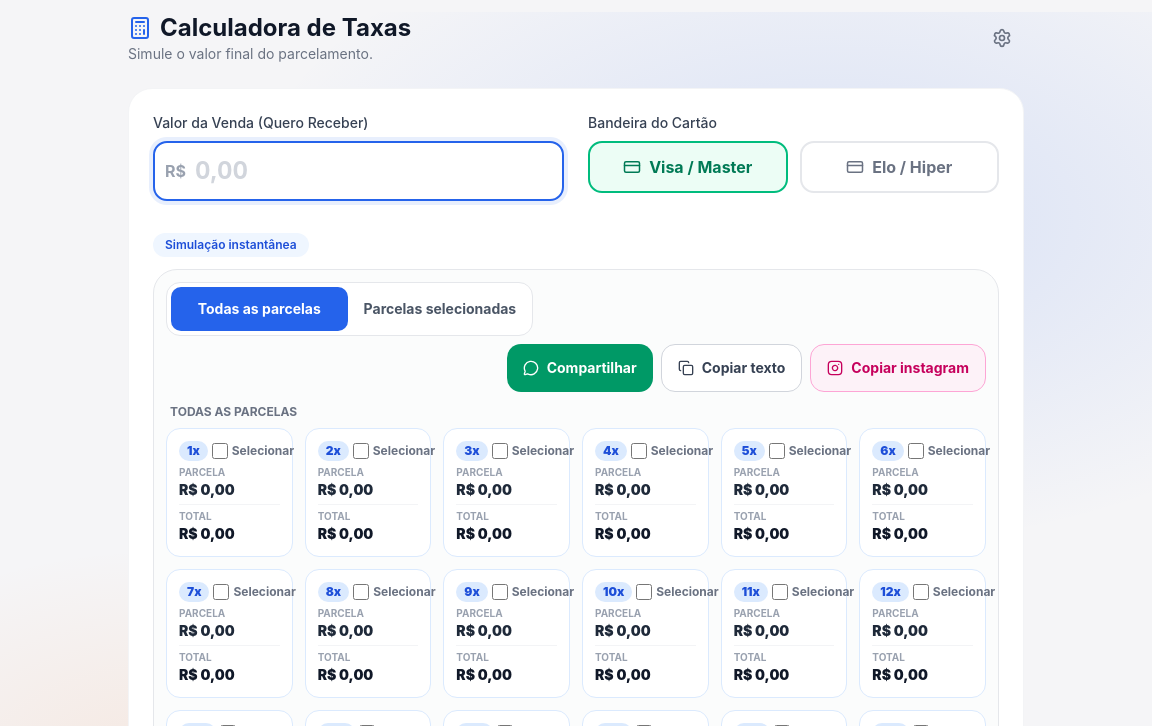
Scenario: Calculator page › simulates the 1x Visa/Master installment from the desired net amount
Type "1000" into the field labelled "Valor da Venda (Quero Receber)" at [358, 171], box [153, 141, 564, 201]
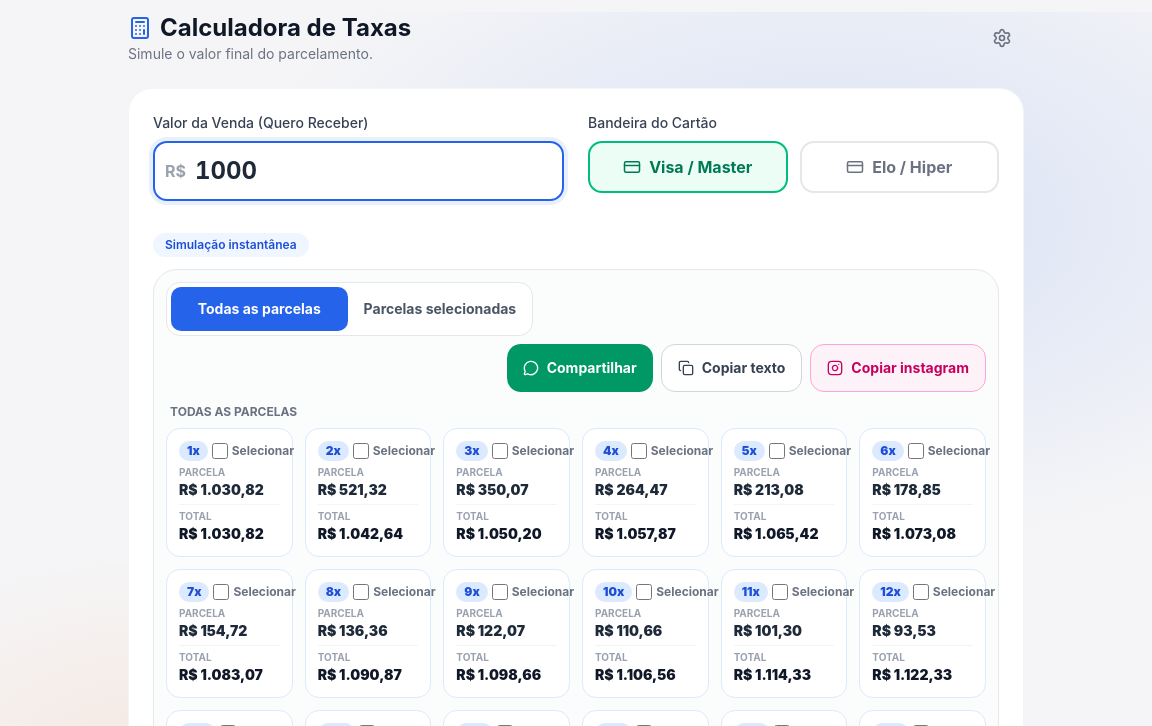
Expected: the heading "Calculadora de Taxas" is shown, [128, 12, 411, 44]
Now the 1st text "R$ 1.030,82" is shown, box [179, 481, 264, 498]
